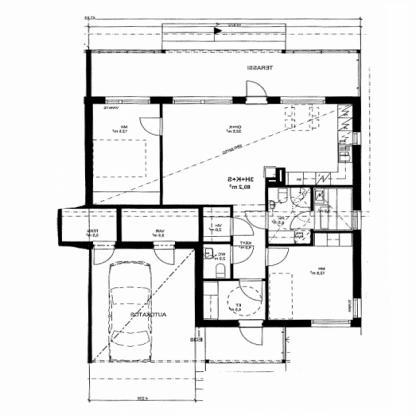door: (230, 317, 266, 347), (147, 236, 181, 267), (87, 238, 121, 268), (239, 77, 270, 107), (135, 114, 169, 140), (260, 244, 294, 270), (226, 243, 256, 272), (226, 215, 256, 241), (243, 209, 275, 233)
window: (166, 94, 237, 109), (96, 93, 154, 109), (277, 92, 329, 108), (306, 316, 356, 329), (348, 295, 368, 321), (347, 209, 367, 227), (350, 132, 364, 150)
